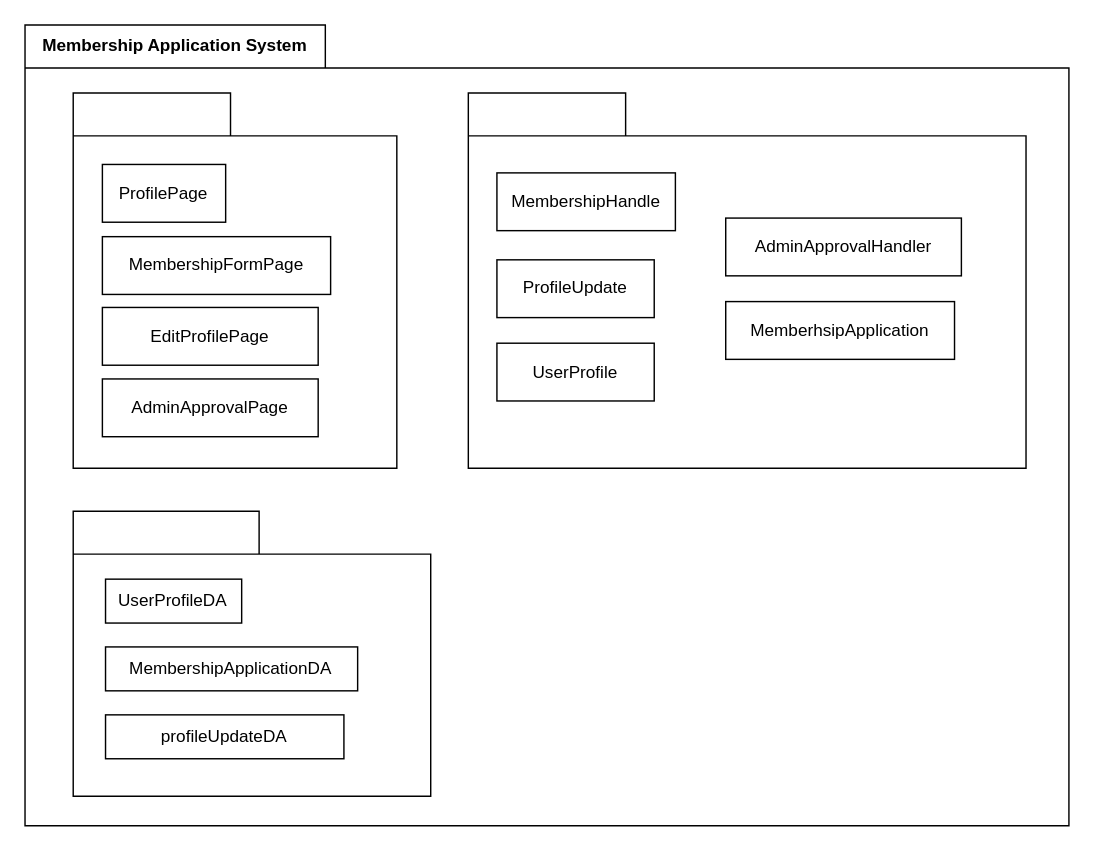
Some shapes in this 1094 by 851 pixel diagram are drawn without their labels. The box of each missing label's shape, as (x1, y1, x2, y2) in pixels:
Data Access Layer: (72, 510, 431, 796)
Domain Layer: (467, 92, 1026, 468)
View Layer: (72, 92, 397, 468)
